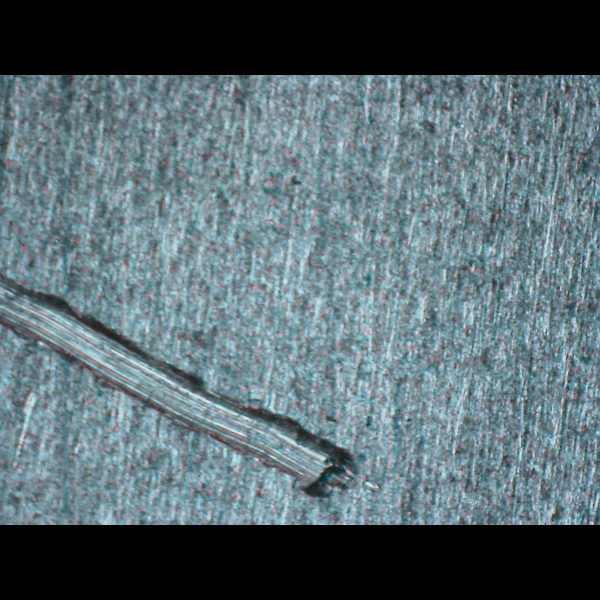d: (0, 268, 358, 499)
